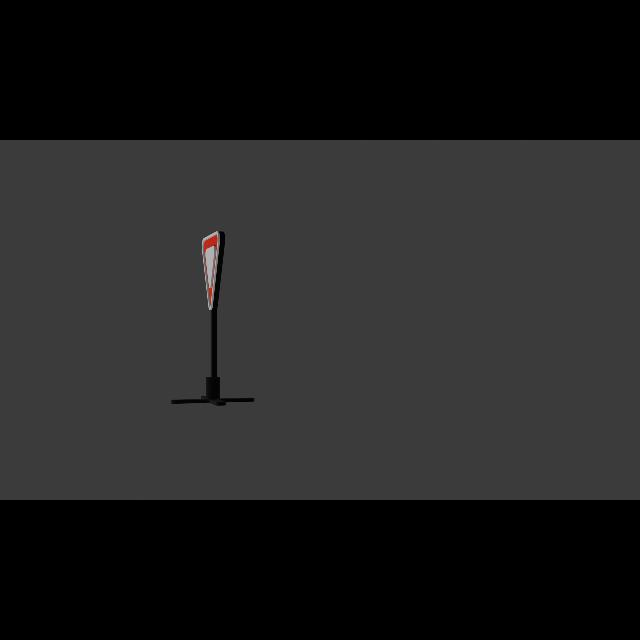sign_yield: (200, 232, 225, 313)
